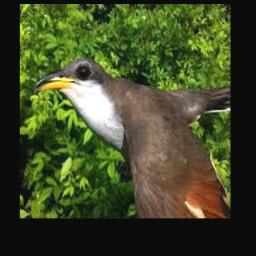Cuckoo: (35, 58, 230, 218)
